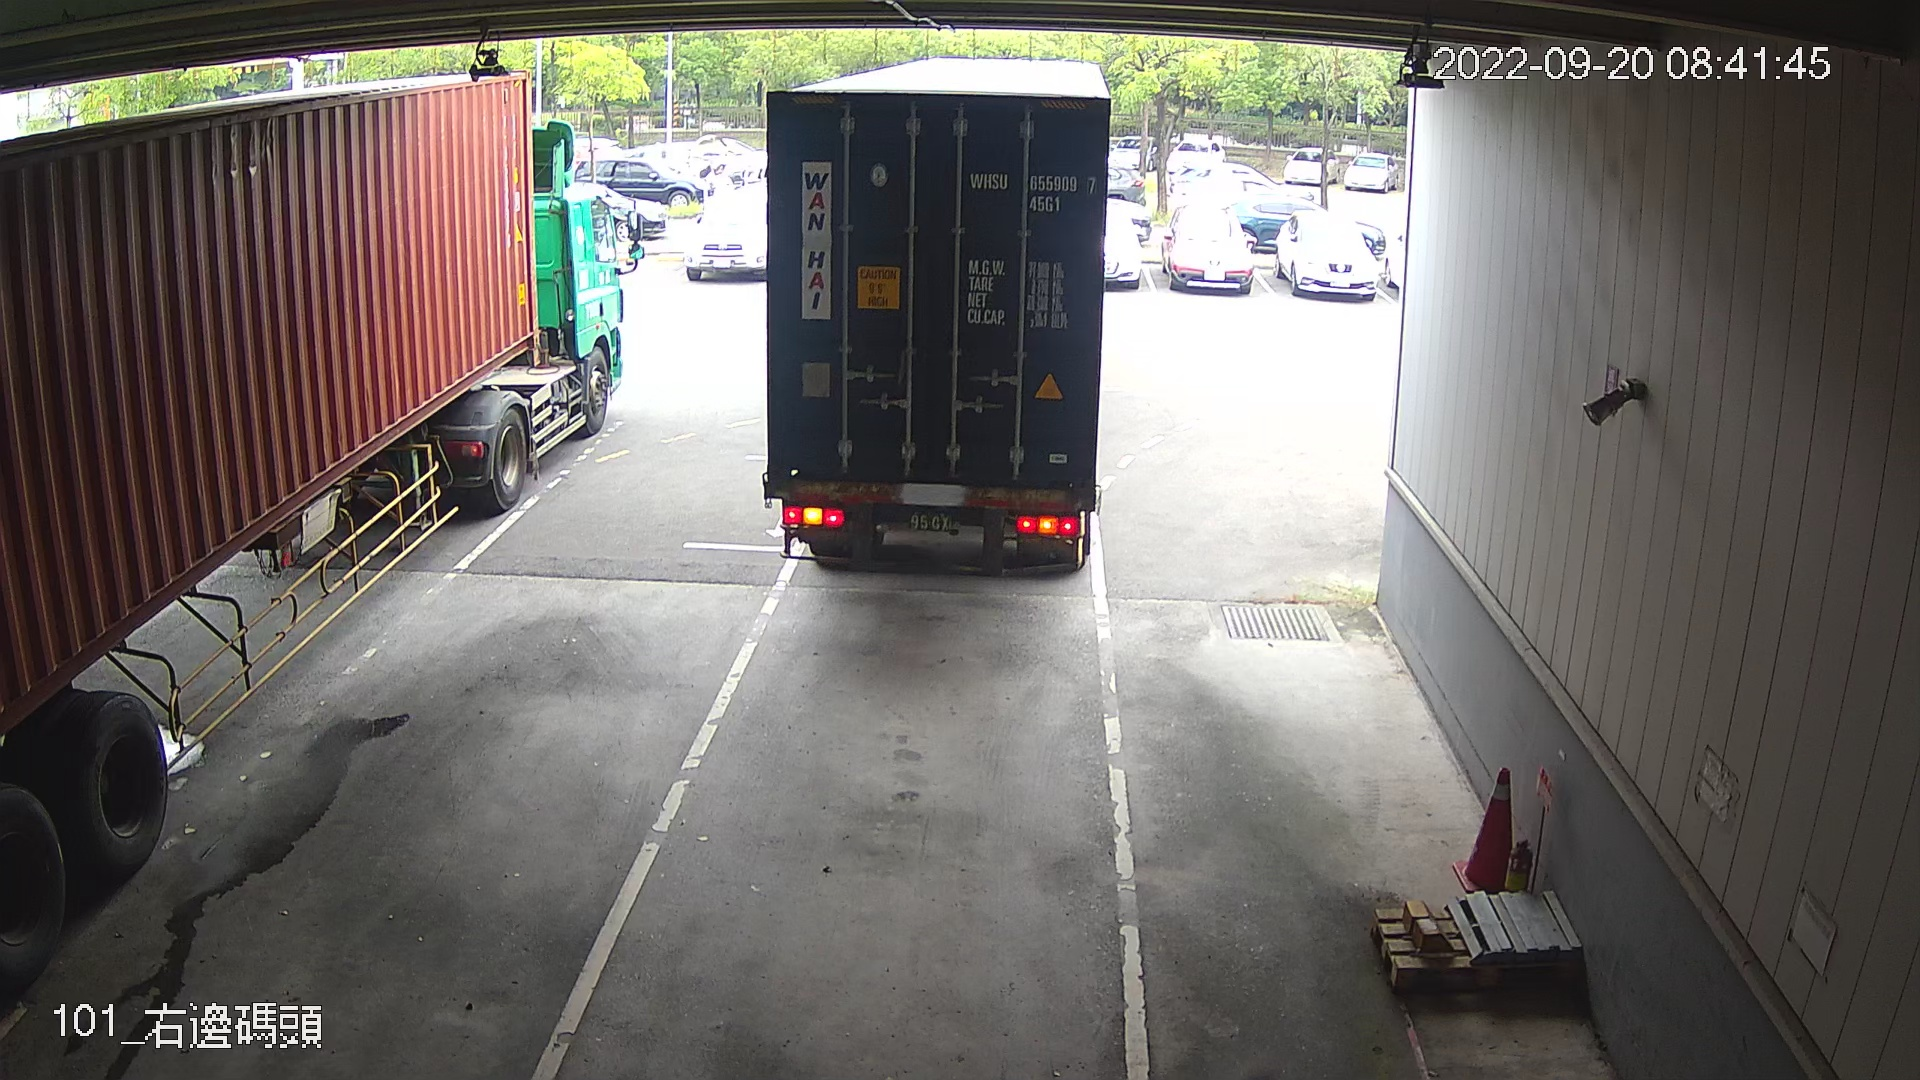container: (963, 164, 1101, 219)
